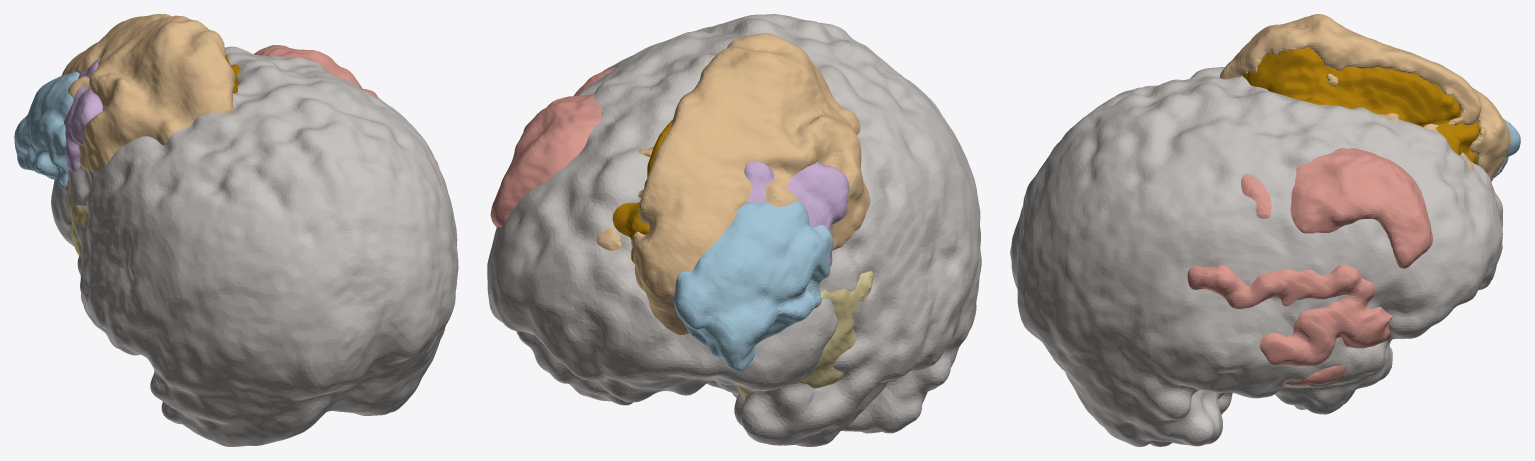
Rendered from case_library_molecular.glb.
The picture shows the model from 3 angles, left to right: view 1: azimuth 30°, elevation 25°; view 2: azimuth 150°, elevation 25°; view 3: azimuth 270°, elevation 25°; orthographic projection. The views are drawn at different scales.
Parts seen in each view (by area): view 1: Reference brain surface, Astro IDH-mut G4 — T2/FLAIR tumour body (sub-0061), Oligo 1p19q-codel G2 — T2/FLAIR tumour body (sub-0258), Astro IDH-wt G3 — T2/FLAIR tumour body (sub-0263), GBM IDH-wt G4 — T2/FLAIR tumour body (sub-0007), Astro IDH-mut G3 — T2/FLAIR tumour body (sub-0262); view 2: Reference brain surface, Astro IDH-mut G4 — T2/FLAIR tumour body (sub-0061), Oligo 1p19q-codel G2 — T2/FLAIR tumour body (sub-0258), GBM IDH-wt G4 — T2/FLAIR tumour body (sub-0007), Astro IDH-wt G3 — T2/FLAIR tumour body (sub-0263), Astro IDH-mut G3 — T2/FLAIR tumour body (sub-0262), Astro IDH-mut G4 — necrotic / non-enhancing core (sub-0061); view 3: Reference brain surface, GBM IDH-wt G4 — T2/FLAIR tumour body (sub-0007), Astro IDH-mut G4 — T2/FLAIR tumour body (sub-0061), Astro IDH-mut G4 — necrotic / non-enhancing core (sub-0061).
Boxes of the visible parts, x1=… form: Reference brain surface: x1=51, y1=46, x2=458, y2=446; Astro IDH-mut G4 — T2/FLAIR tumour body (sub-0061): x1=61, y1=14, x2=235, y2=173; Oligo 1p19q-codel G2 — T2/FLAIR tumour body (sub-0258): x1=14, y1=71, x2=79, y2=188; Astro IDH-wt G3 — T2/FLAIR tumour body (sub-0263): x1=64, y1=58, x2=102, y2=172; GBM IDH-wt G4 — T2/FLAIR tumour body (sub-0007): x1=254, y1=45, x2=439, y2=167; Astro IDH-mut G3 — T2/FLAIR tumour body (sub-0262): x1=65, y1=183, x2=88, y2=256; Reference brain surface: x1=487, y1=14, x2=981, y2=446; Astro IDH-mut G4 — T2/FLAIR tumour body (sub-0061): x1=596, y1=33, x2=870, y2=335; Oligo 1p19q-codel G2 — T2/FLAIR tumour body (sub-0258): x1=674, y1=200, x2=833, y2=372; GBM IDH-wt G4 — T2/FLAIR tumour body (sub-0007): x1=490, y1=67, x2=615, y2=227; Astro IDH-wt G3 — T2/FLAIR tumour body (sub-0263): x1=744, y1=161, x2=848, y2=266; Astro IDH-mut G3 — T2/FLAIR tumour body (sub-0262): x1=737, y1=271, x2=873, y2=399; Astro IDH-mut G4 — necrotic / non-enhancing core (sub-0061): x1=612, y1=119, x2=672, y2=263; Reference brain surface: x1=1010, y1=67, x2=1503, y2=446; GBM IDH-wt G4 — T2/FLAIR tumour body (sub-0007): x1=1187, y1=148, x2=1432, y2=385; Astro IDH-mut G4 — T2/FLAIR tumour body (sub-0061): x1=1220, y1=14, x2=1510, y2=181; Astro IDH-mut G4 — necrotic / non-enhancing core (sub-0061): x1=1242, y1=47, x2=1479, y2=163.
Size of the model in its own units: 137 by 145 by 177.
